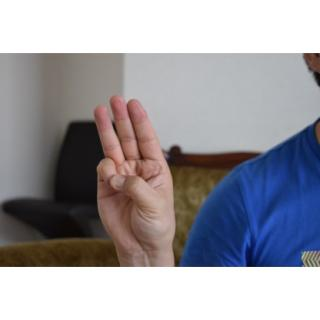THA: (89, 86, 178, 259)
